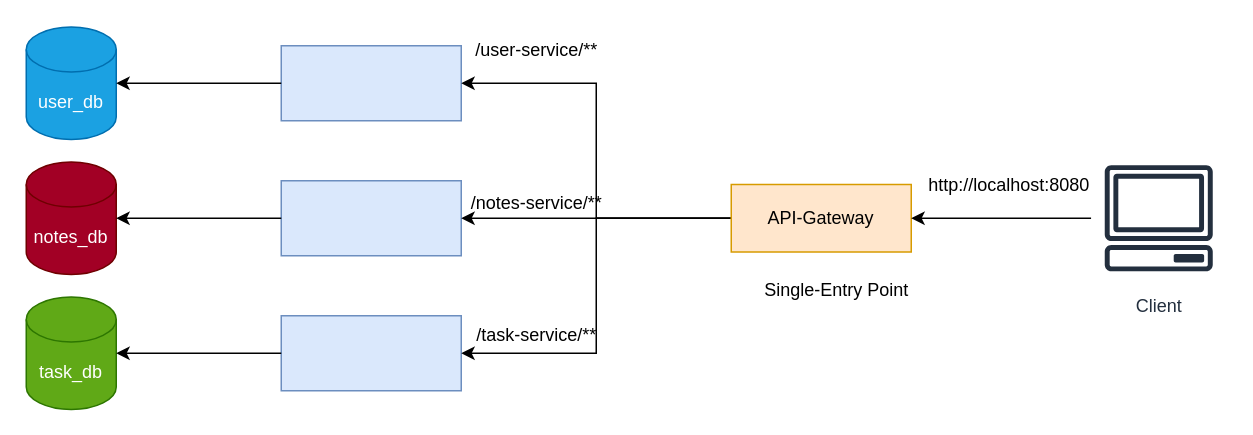
This 1253x435 diagram has some shape labels left out. Here are the shapes that lost their labels. From the top down, the centre of each, then its label:
At [370,82]: "User-Service".
At [370,217]: "Notes-Service".
At [370,352]: "Task-Service".
